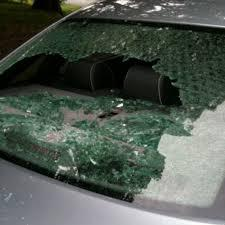Rear-windscreen-Damage: (0, 19, 224, 206)
